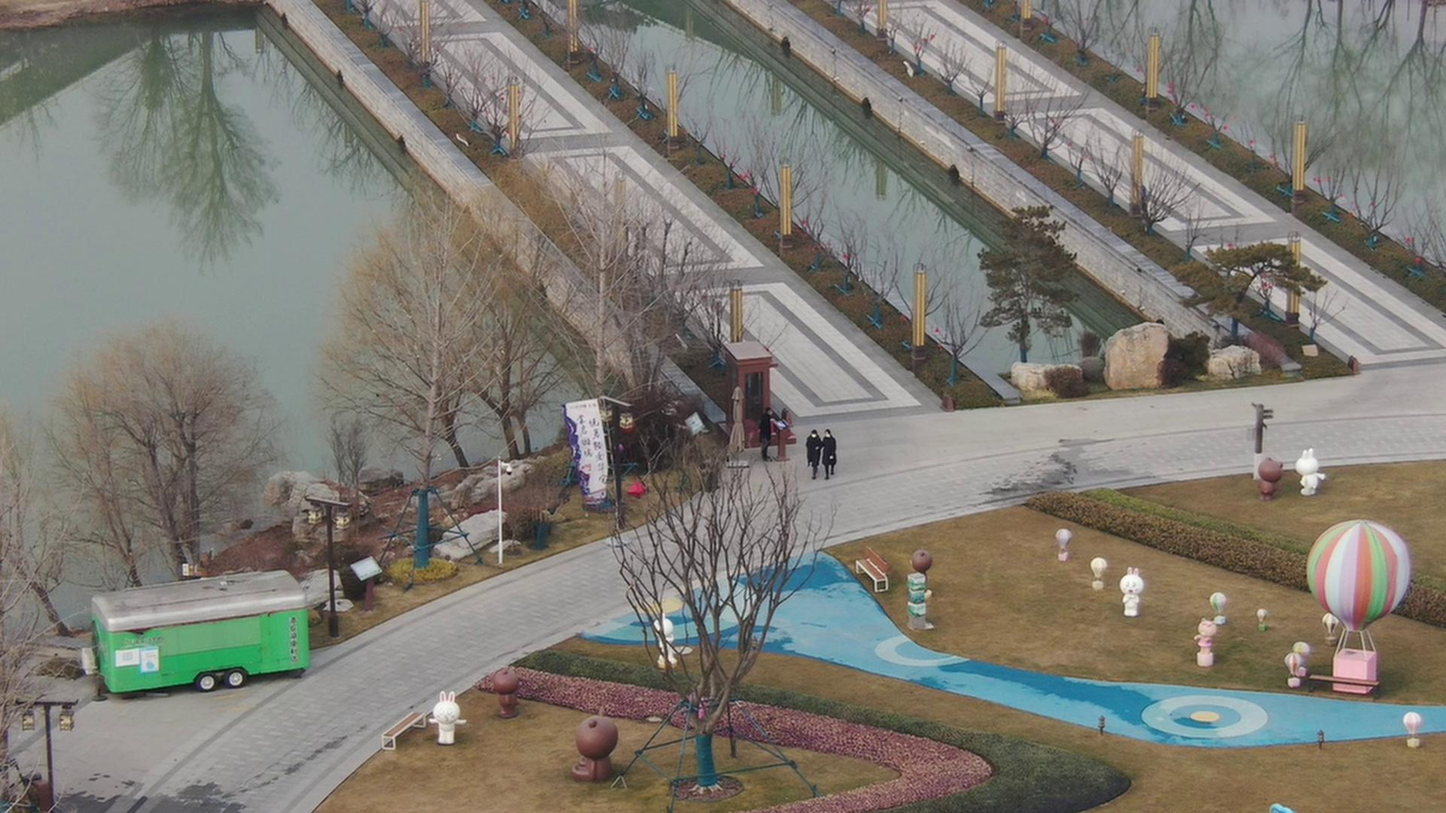class_2: (801, 425, 838, 482)
human: (750, 400, 775, 464)
